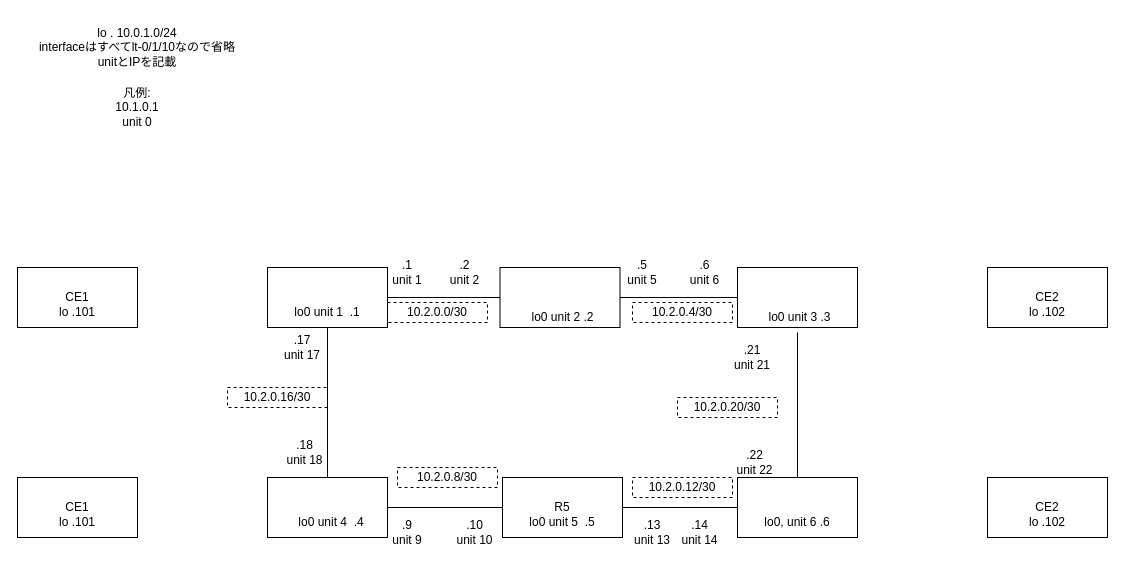
Some shapes in this 1125 by 564 pixel diagram are drawn without their labels. The box of each missing label's shape, as (x1, y1, x2, y2) in pixels:
R1: (266, 266, 388, 328)
R2: (499, 266, 620, 328)
R3: (736, 266, 858, 328)
R4: (266, 476, 388, 538)
R6: (736, 476, 858, 538)
